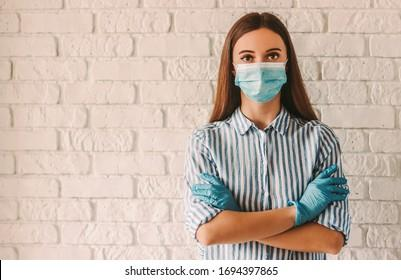gloves: (288, 163, 348, 226), (193, 171, 241, 212)
